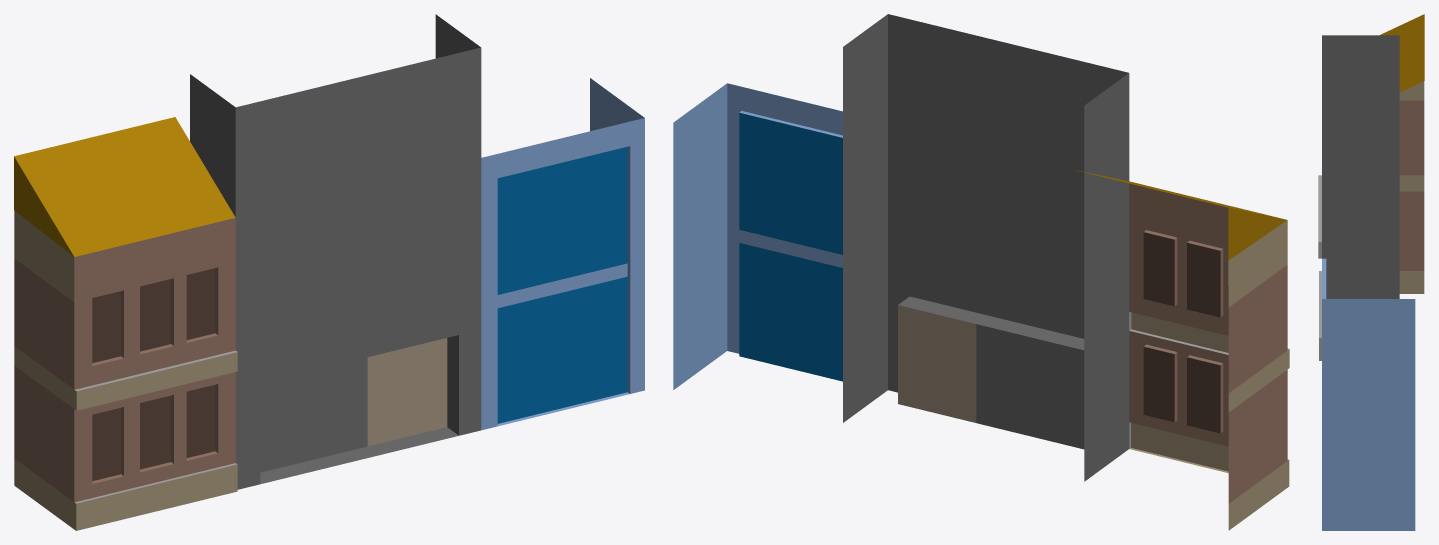
Rendered from buildings.fbx.
The picture shows the model from 3 angles, left to right: view 1: azimuth 30°, elevation 25°; view 2: azimuth 150°, elevation 25°; view 3: azimuth 270°, elevation 25°; orthographic projection. The views are drawn at different scales.
Parts seen in each view (by area): view 1: polySurface391; view 2: polySurface391; view 3: polySurface391.
Part boxes in pixels (x1,y1,x2,y2): polySurface391: (14, 14, 644, 530); polySurface391: (673, 14, 1289, 530); polySurface391: (1318, 14, 1424, 530).
Size of the model in its own units: 53.17 by 34.1 by 10.08.
